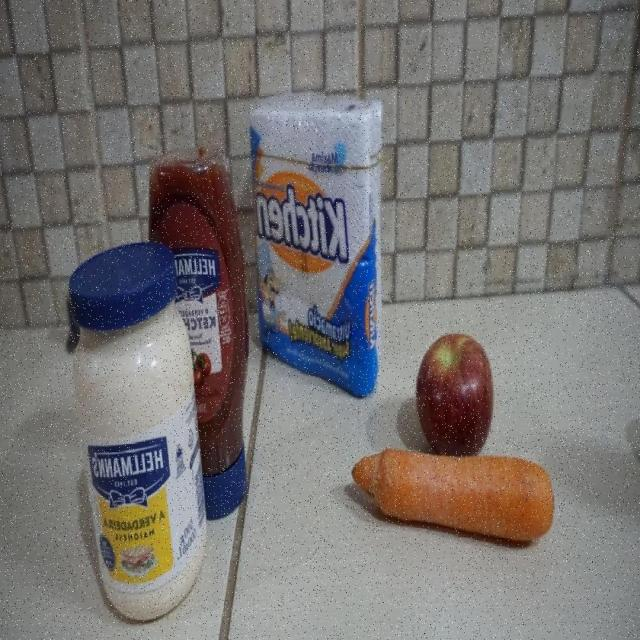Apple: (414, 332, 492, 459)
Carrot: (352, 449, 555, 544)
Ketchup: (148, 145, 248, 520)
Mayonnaise: (67, 241, 208, 621)
Napkin: (250, 91, 385, 396)
